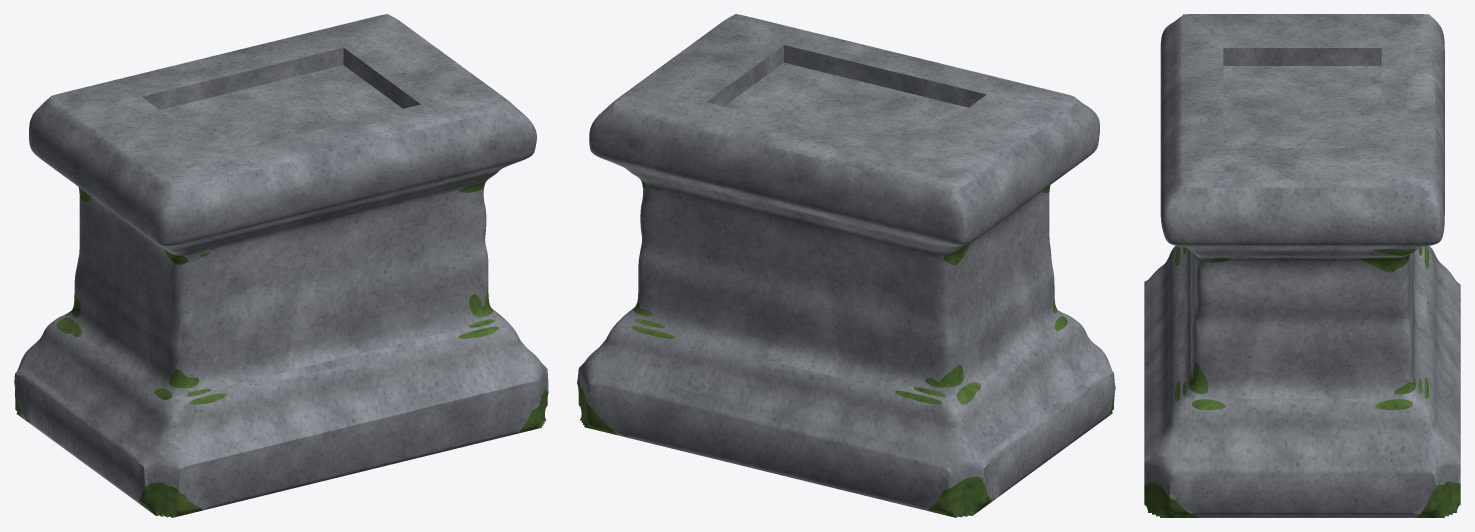
The model's file is ruin_altar_pedestal.glb.
3 views of the same model, side by side, from view 1: azimuth 30°, elevation 25°; view 2: azimuth 150°, elevation 25°; view 3: azimuth 270°, elevation 25° (orthographic).
Parts seen in each view (by area): view 1: wilds_ruins_ruin_altar_pedestal; view 2: wilds_ruins_ruin_altar_pedestal; view 3: wilds_ruins_ruin_altar_pedestal.
Boxes of the visible parts, x1,y1,x2,y2 form: wilds_ruins_ruin_altar_pedestal: [14, 14, 548, 517]; wilds_ruins_ruin_altar_pedestal: [577, 14, 1115, 517]; wilds_ruins_ruin_altar_pedestal: [1144, 14, 1460, 517].
Bounding box in the file's own units: 1.2 × 0.9 × 0.8.
Materials: 3 (3 with a texture image).
